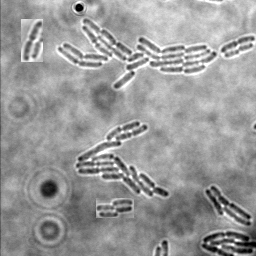Dividing: (219, 34, 255, 52), (168, 196, 205, 210), (223, 41, 253, 57), (127, 85, 165, 96)
Microcolony: (75, 120, 169, 197), (38, 27, 135, 83), (7, 216, 72, 254), (204, 184, 251, 226), (200, 230, 255, 255)
